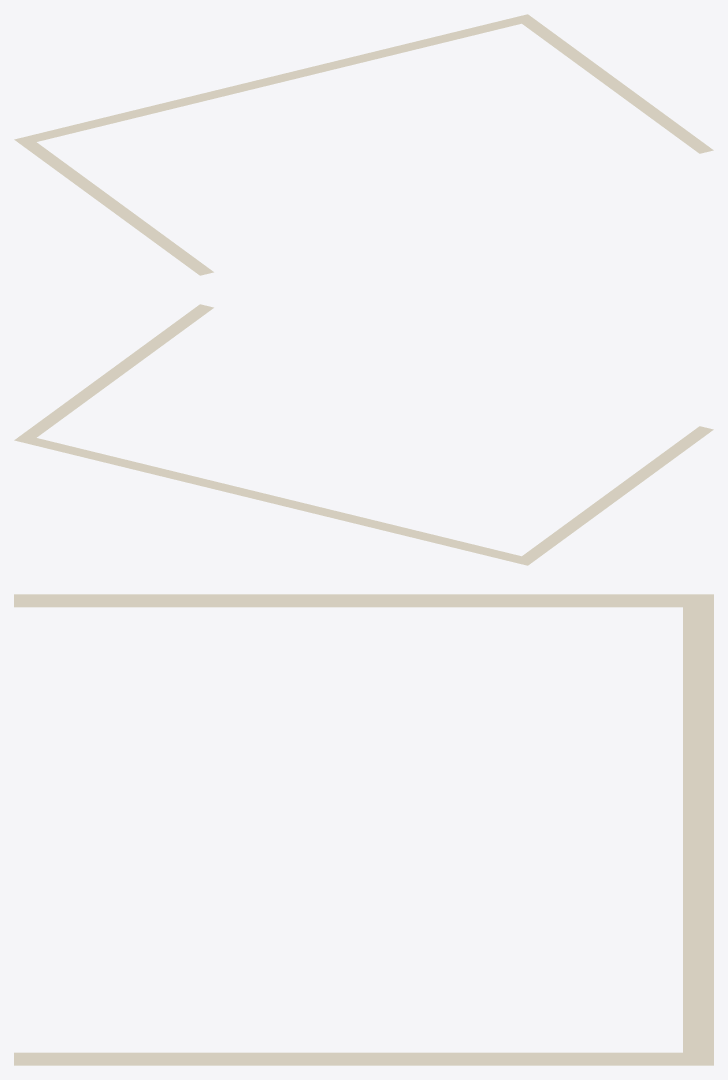
Rendered from q01-parking.glb.
The picture shows the model from 3 angles, top to bottom: view 1: azimuth 30°, elevation 25°; view 2: azimuth 150°, elevation 25°; view 3: azimuth 270°, elevation 25°; orthographic projection. The views are drawn at different scales.
Bounding box in the file's own units: 2.16 × 0 × 1.36.
